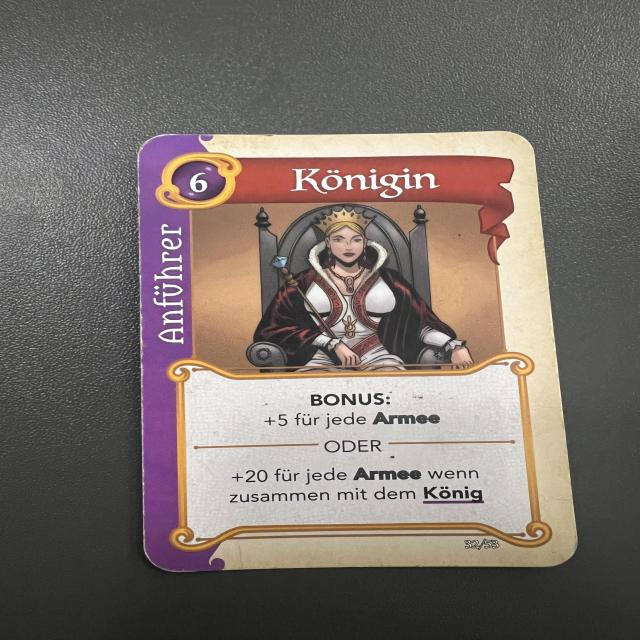Queen: (143, 130, 585, 578)
